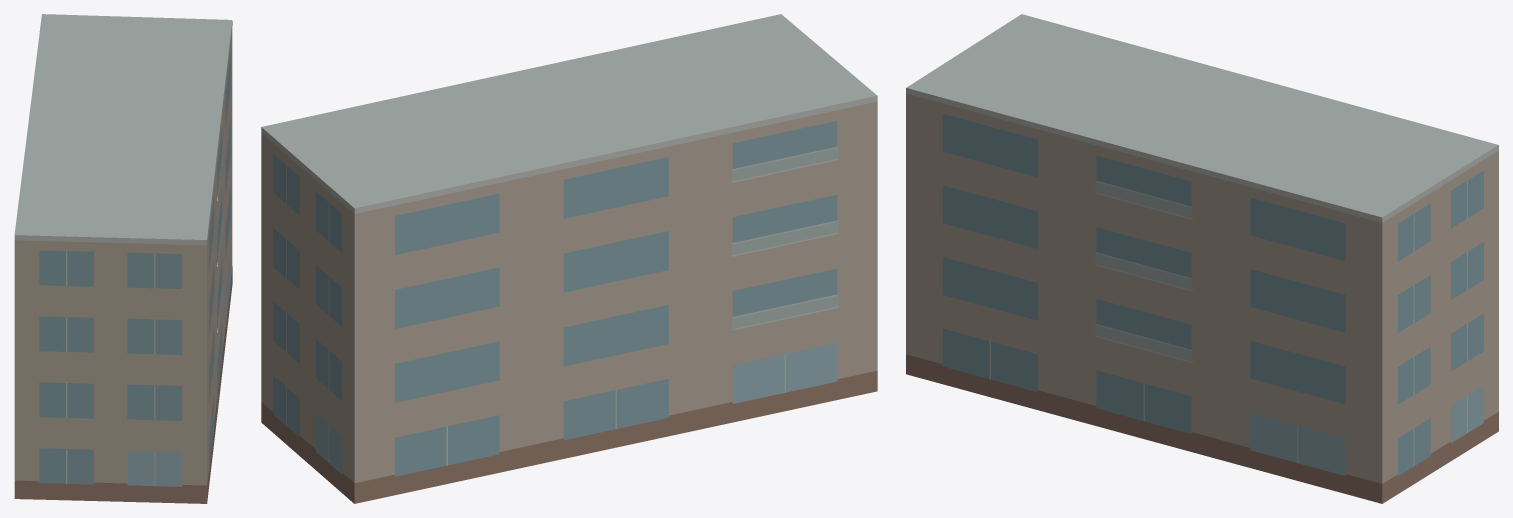
Rendered from survey-upis-32883914.glb.
3 views of the same model, side by side, from view 1: azimuth 30°, elevation 25°; view 2: azimuth 150°, elevation 25°; view 3: azimuth 270°, elevation 25° (orthographic). The views are drawn at different scales.
Parts seen in each view (by area): view 1: survey-upis-32883914.tmp; view 2: survey-upis-32883914.tmp; view 3: survey-upis-32883914.tmp.
Boxes of the visible parts, x1,y1,x2,y2 form: survey-upis-32883914.tmp: (14,14,232,503); survey-upis-32883914.tmp: (261,14,877,503); survey-upis-32883914.tmp: (906,14,1498,503).
Bounding box in the file's own units: 19.05 × 12.5 × 23.45.
